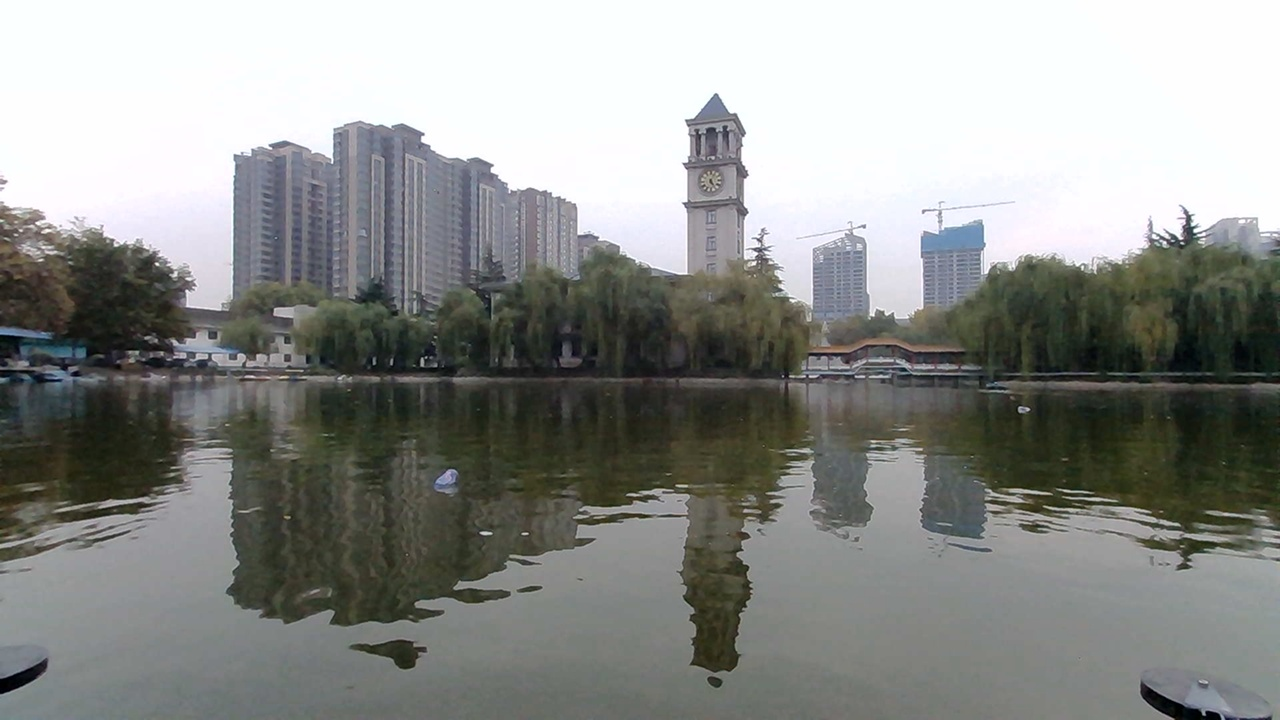bottle: (423, 451, 501, 498), (993, 392, 1050, 420)
